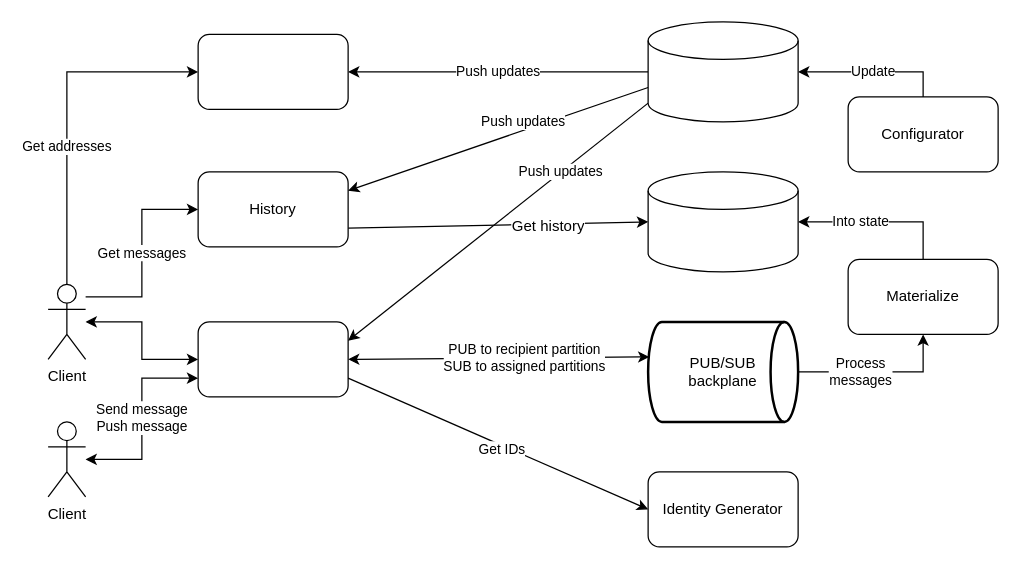
Image size: 1020x569. Some labels were removed from this diagram. Each missing label, with the centre of its shape:
"Configuration DB" belongs at pixel 722 71.
"Connect" belongs at pixel 272 71.
"History DB" belongs at pixel 722 221.
"Messaging" belongs at pixel 272 359.
